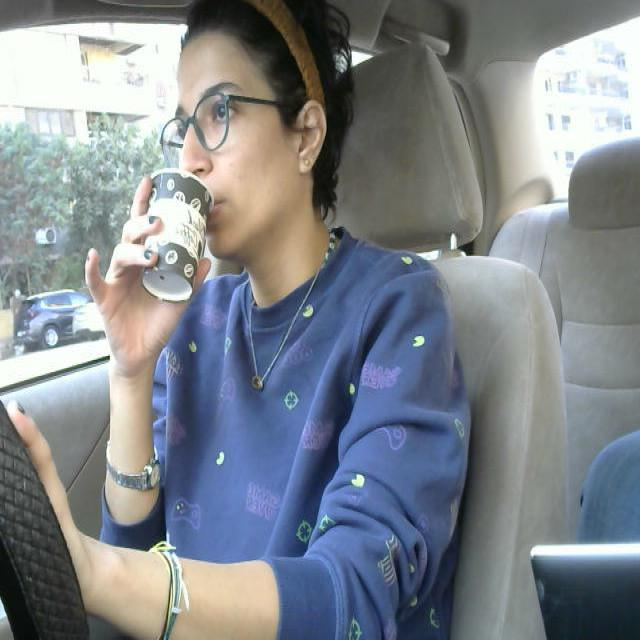Drinking: (130, 25, 324, 302)
